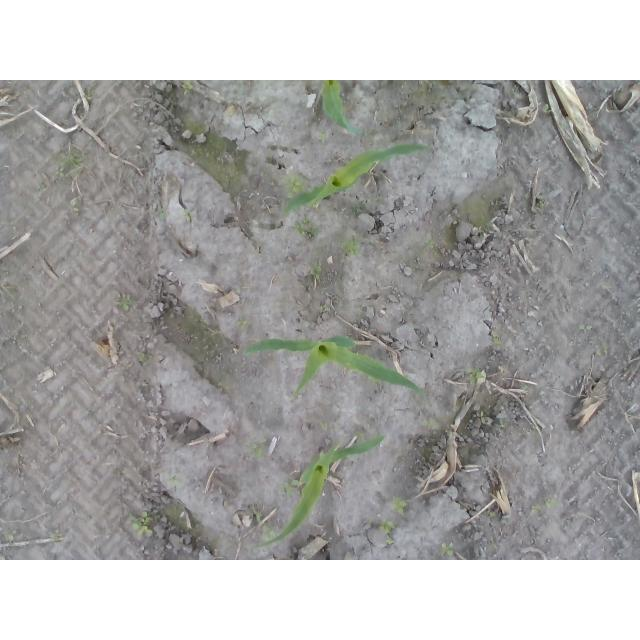Maize: (251, 435, 385, 553), (241, 336, 427, 401), (283, 142, 430, 214), (320, 80, 360, 136)
Weeds: (129, 511, 154, 538), (55, 152, 81, 177), (292, 218, 319, 241), (246, 438, 270, 459), (112, 288, 132, 312), (285, 175, 305, 197), (338, 239, 361, 258), (379, 519, 395, 546), (278, 479, 299, 497), (531, 496, 553, 513), (464, 366, 483, 384), (390, 495, 408, 513), (434, 542, 454, 558), (165, 473, 185, 488), (261, 526, 276, 542), (66, 200, 80, 217), (3, 529, 18, 544), (309, 262, 321, 280), (182, 80, 193, 97), (49, 530, 63, 543), (352, 200, 369, 210), (84, 90, 96, 103), (236, 320, 249, 331), (576, 323, 593, 331), (496, 419, 505, 433), (423, 418, 433, 430), (369, 376, 382, 385), (352, 432, 365, 440), (424, 240, 435, 249), (136, 352, 145, 363), (493, 336, 501, 348), (536, 199, 545, 209), (184, 212, 193, 221), (480, 409, 485, 425), (255, 511, 262, 522), (367, 518, 374, 528), (319, 131, 325, 141), (159, 208, 165, 217), (313, 201, 320, 208), (488, 511, 496, 517)
